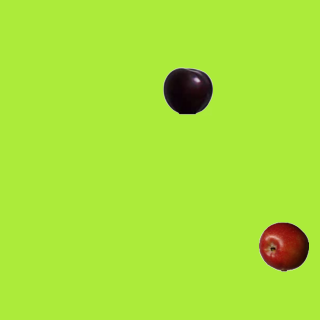Apple Braeburn: (258, 221, 308, 271)
Cherry Wax Black: (162, 65, 212, 115)
